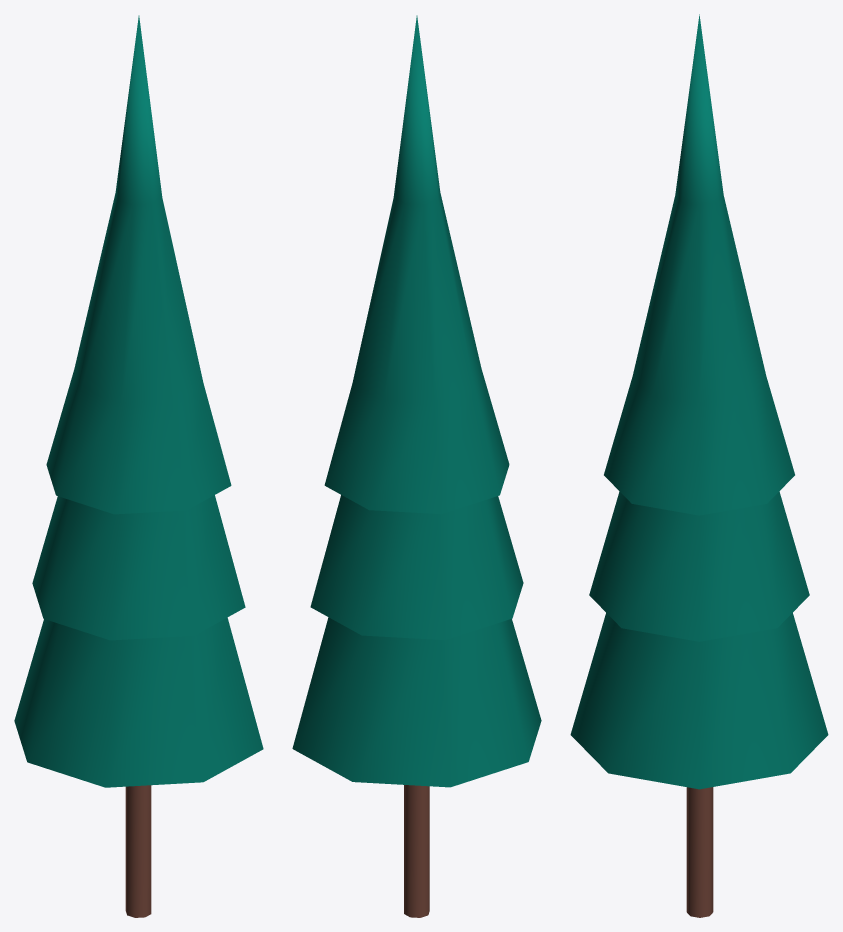
File: firtree_2_2_world_ap_0_lev1.glb
The picture shows the model from 3 angles, left to right: view 1: azimuth 30°, elevation 25°; view 2: azimuth 150°, elevation 25°; view 3: azimuth 270°, elevation 25°; orthographic projection.
Visible parts, largest first — view 1: firtree_2_2_world_ap_0_lev1; view 2: firtree_2_2_world_ap_0_lev1; view 3: firtree_2_2_world_ap_0_lev1.
Boxes of the visible parts, x1,y1,x2,y2 form: firtree_2_2_world_ap_0_lev1: [14, 15, 263, 917]; firtree_2_2_world_ap_0_lev1: [292, 15, 541, 917]; firtree_2_2_world_ap_0_lev1: [570, 14, 828, 917].
Bounding box in the file's own units: 0.7534 × 2.89 × 0.7534.
1 material, 1 textured.
